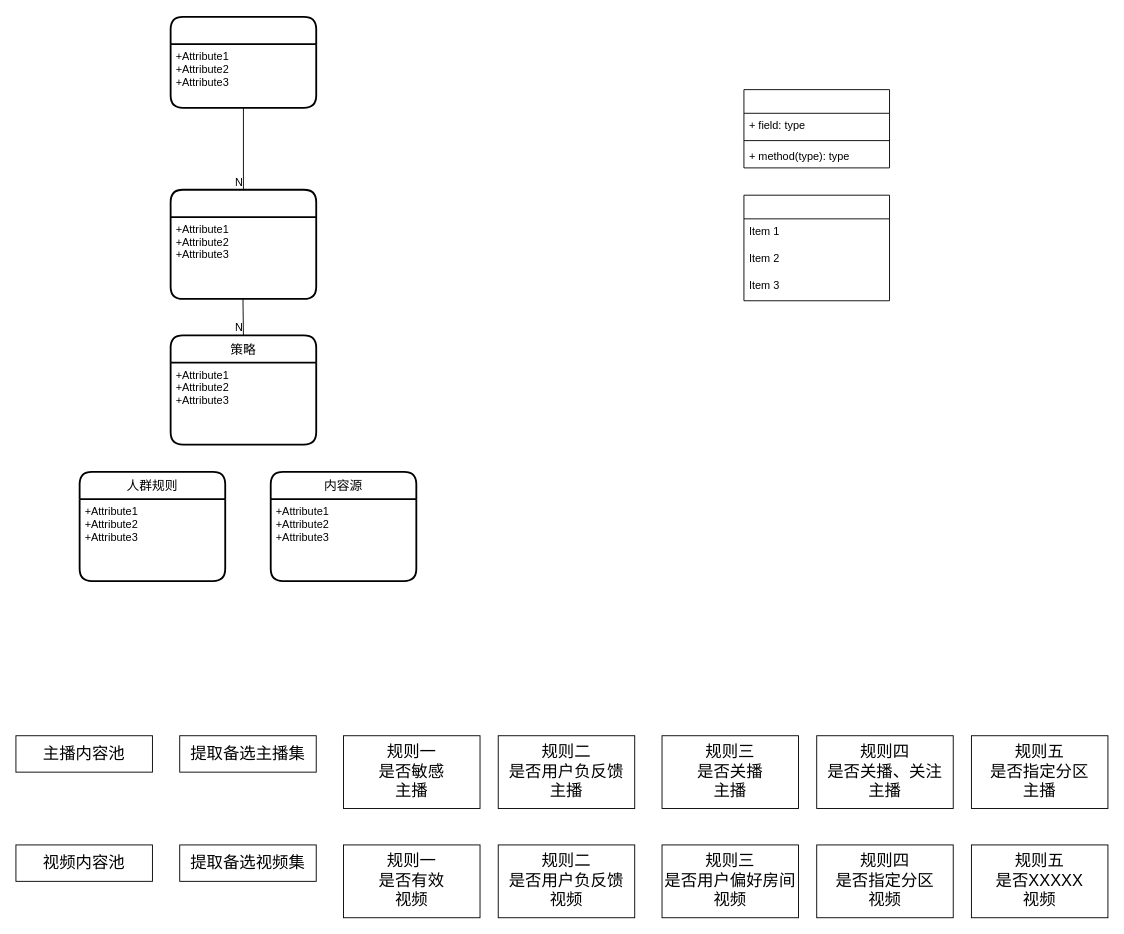
Some shapes in this 1124 by 934 pixel diagram are drawn without their labels. Here are the shapes that lost their labels. From the top down, the box of each, then its label:
(169, 15, 317, 108): 推荐位
(743, 89, 890, 168): AbstractContentSet
(169, 188, 317, 299): 策略集
(743, 194, 890, 301): List
